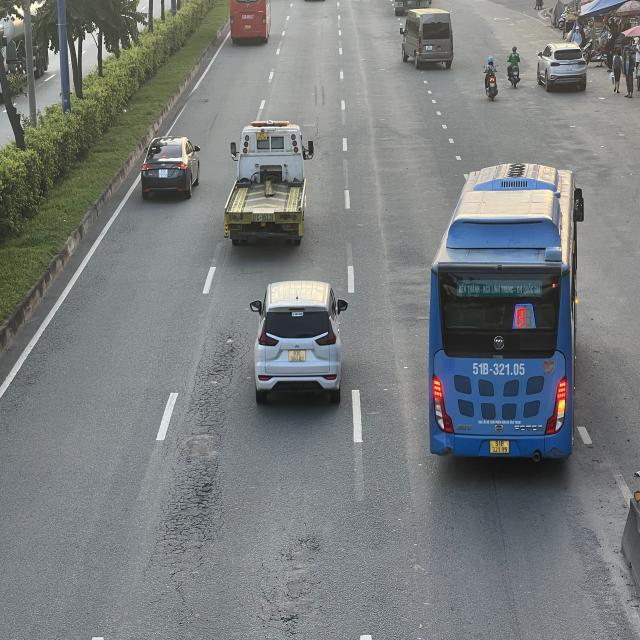car: (252, 281, 346, 404), (140, 137, 201, 198), (535, 41, 590, 91)
coach: (431, 159, 584, 469), (230, 0, 272, 47)
truck: (225, 120, 313, 247)
van: (399, 8, 456, 69)
